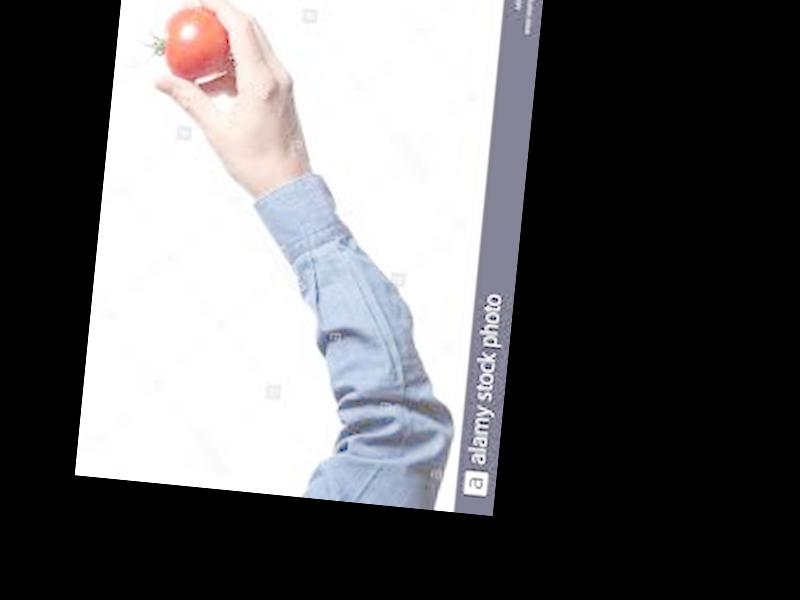Tomato: (162, 3, 230, 81)
